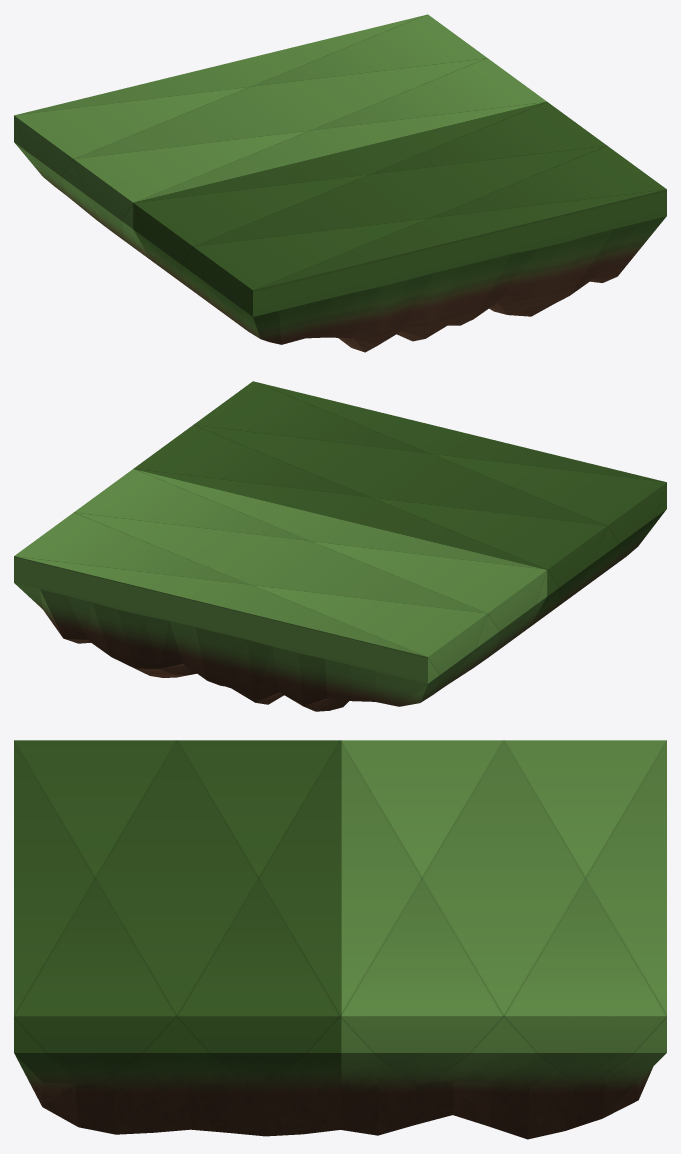
File: FloatingGroundCheckered.FBX
3 views of the same model, one above another, from view 1: azimuth 30°, elevation 25°; view 2: azimuth 150°, elevation 25°; view 3: azimuth 270°, elevation 25° (orthographic). The views are drawn at different scales.
Parts seen in each view (by area): view 1: Object001, Box001; view 2: Object001, Box001; view 3: Object001, Box001.
Part boxes in pixels (bbox=[...]): Object001: bbox=[14, 14, 666, 290]; Box001: bbox=[14, 115, 666, 352]; Object001: bbox=[14, 381, 666, 656]; Box001: bbox=[14, 482, 666, 711]; Object001: bbox=[14, 740, 666, 1016]; Box001: bbox=[14, 1016, 666, 1139].
Size of the model in its own units: 160 by 160 by 48.49.
2 materials, 2 textured.
